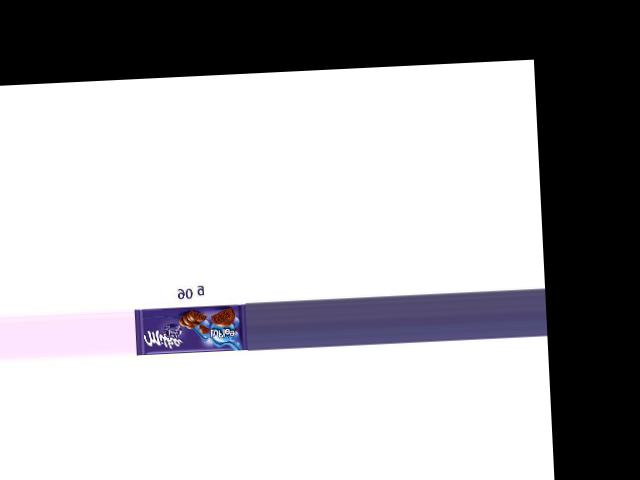chocolate: (136, 304, 248, 355)
